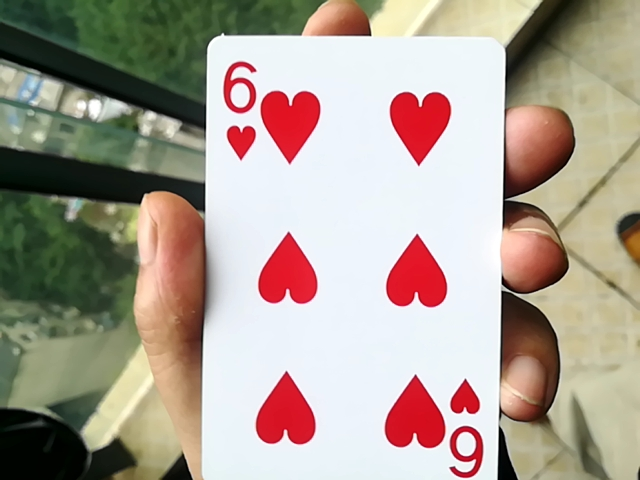hx 6: (188, 39, 516, 479)
